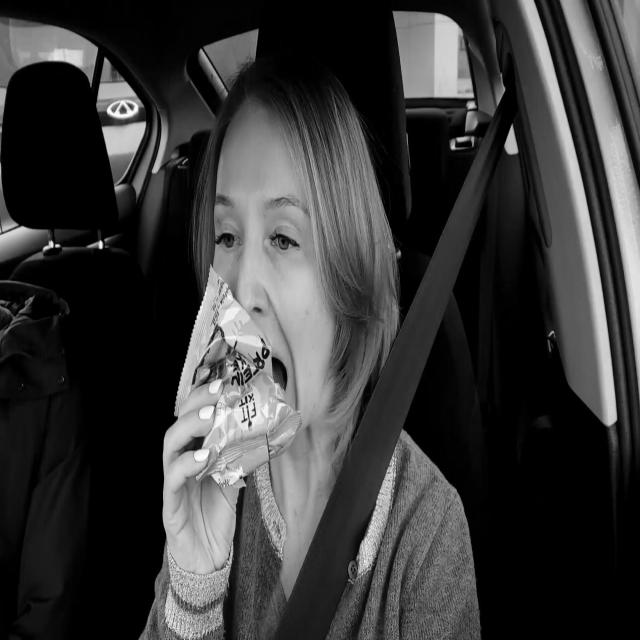Eating: (171, 266, 302, 490)
Seatbelt: (275, 79, 520, 640)
